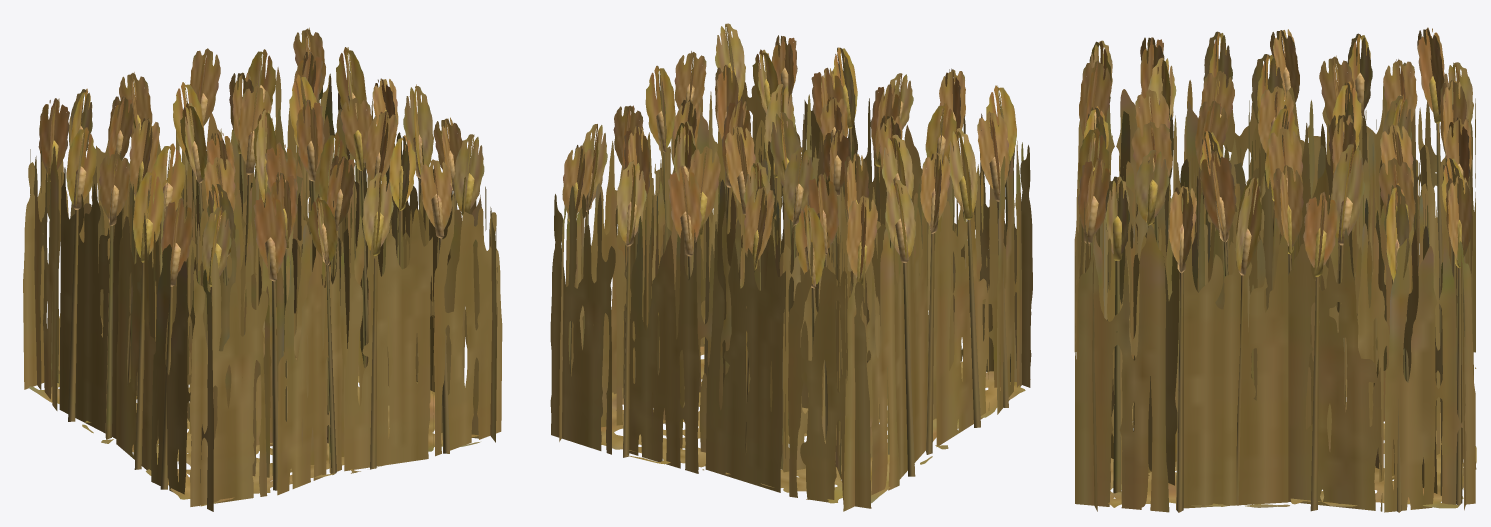
3 views of the same model, side by side, from view 1: azimuth 30°, elevation 25°; view 2: azimuth 150°, elevation 25°; view 3: azimuth 270°, elevation 25° (orthographic). The views are drawn at different scales.
Size of the model in its own units: 10 by 9.2 by 10.
Materials: 1 (1 with a texture image).
